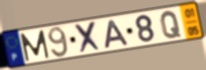8: (134, 13, 156, 44)
9: (46, 26, 70, 58)
A: (104, 19, 131, 50)
M: (18, 29, 51, 63)
Q: (160, 10, 183, 40)
X: (74, 20, 104, 55)
